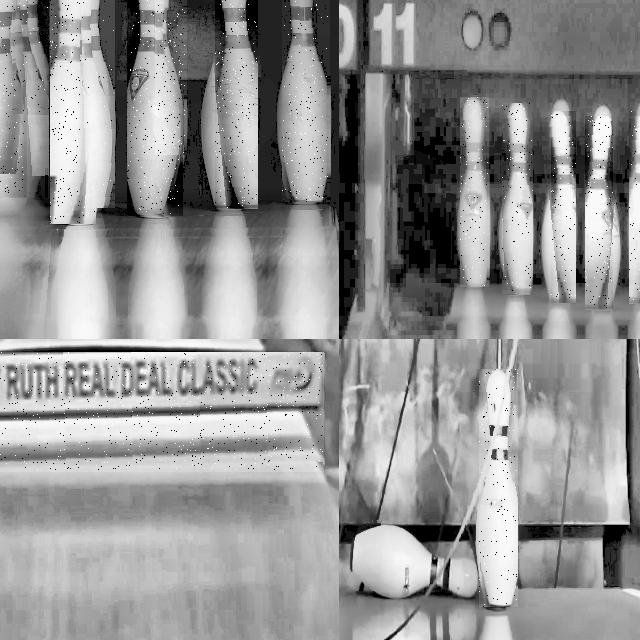bowling-pins: (128, 0, 181, 215), (50, 0, 96, 224), (282, 0, 328, 202), (479, 369, 518, 607), (216, 0, 257, 208), (502, 104, 533, 292), (585, 117, 613, 308), (461, 97, 488, 287), (551, 112, 576, 302), (92, 0, 114, 208), (166, 0, 185, 155), (27, 0, 49, 113), (629, 118, 640, 302), (45, 188, 46, 196)
sweep board: (0, 353, 323, 420)
